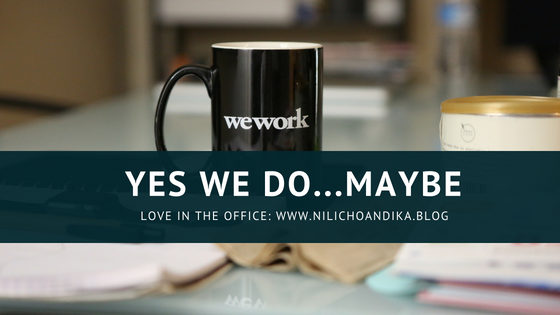wework: (222, 106, 311, 131)
